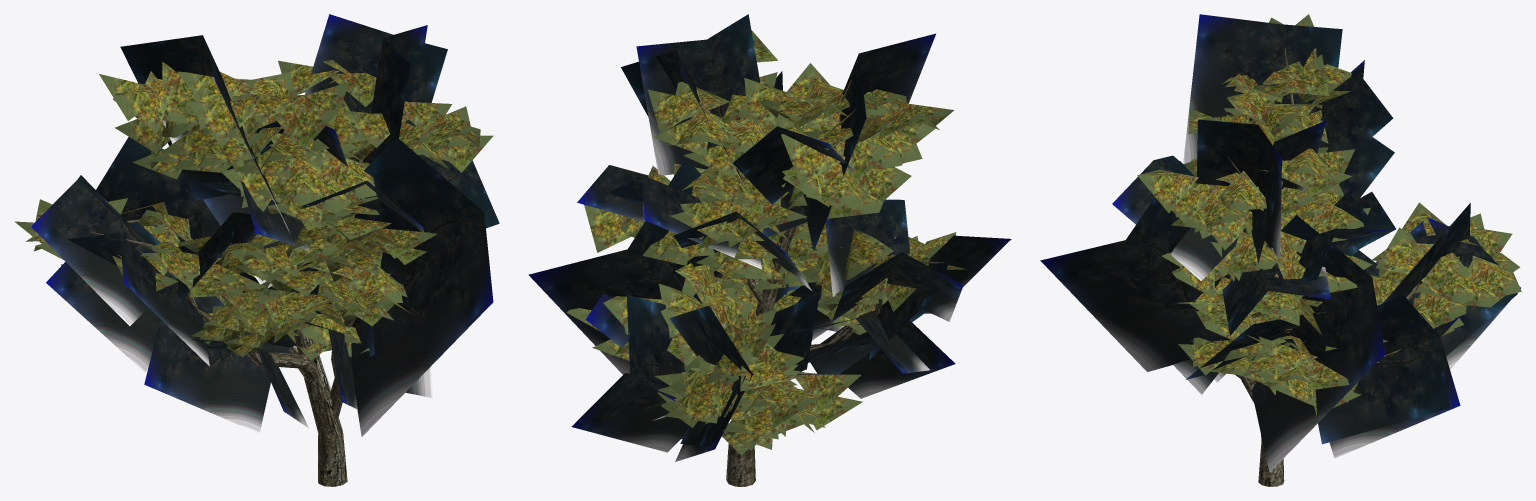
Rendered from oak_c_fall.fbx.
3 renders of one model, left to right at view 1: azimuth 30°, elevation 25°; view 2: azimuth 150°, elevation 25°; view 3: azimuth 270°, elevation 25°, orthographic. The views are drawn at different scales.
Visible parts, largest first — view 1: oak_c_fall; view 2: oak_c_fall; view 3: oak_c_fall.
Part boxes in pixels (<box>): oak_c_fall: <box>15,14,499,486</box>; oak_c_fall: <box>528,14,1011,486</box>; oak_c_fall: <box>1040,14,1521,486</box>.
Size of the model in its own units: 1093 by 1183 by 1273.
3 materials, 3 textured.
